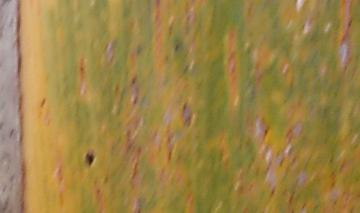tarspot: (84, 149, 95, 168), (37, 97, 49, 109), (170, 40, 181, 53), (345, 18, 353, 29), (180, 101, 188, 112), (131, 95, 139, 106), (130, 75, 137, 85), (263, 128, 269, 134)
